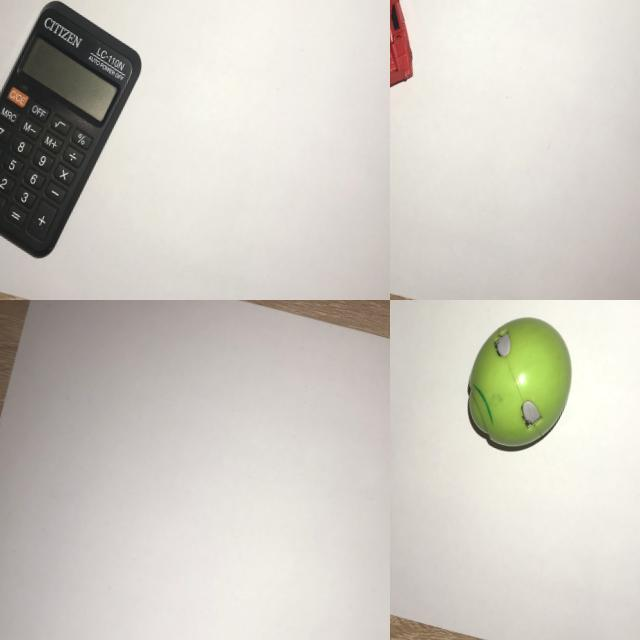calculator: (0, 0, 158, 278)
car: (390, 0, 449, 113)
toy: (446, 300, 590, 468)
